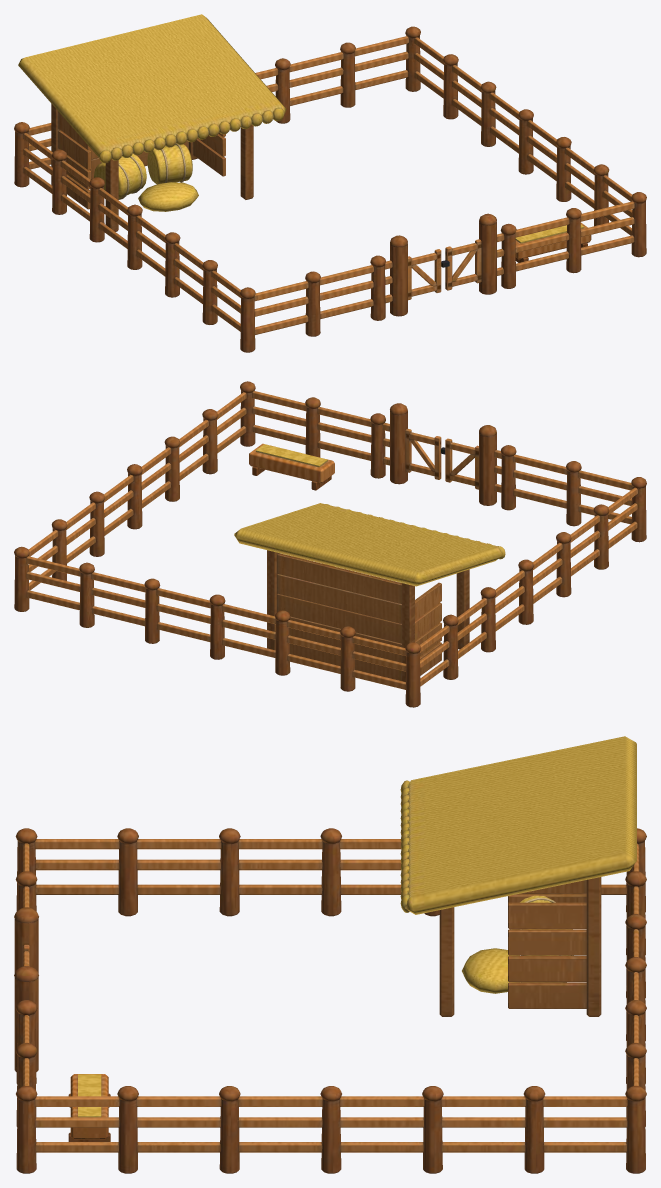
Rendered from watusi_ranch.glb.
3 views of the same model, one above another, from view 1: azimuth 30°, elevation 25°; view 2: azimuth 150°, elevation 25°; view 3: azimuth 270°, elevation 25° (orthographic). The views are drawn at different scales.
Parts seen in each view (by area): view 1: watusi_ranch; view 2: watusi_ranch; view 3: watusi_ranch.
Part boxes in pixels (bbox=[...]): watusi_ranch: bbox=[14, 14, 646, 352]; watusi_ranch: bbox=[14, 381, 646, 707]; watusi_ranch: bbox=[14, 736, 646, 1173].
Size of the model in its own units: 3 by 0.9759 by 3.01.
Materials: 1 (1 with a texture image).
